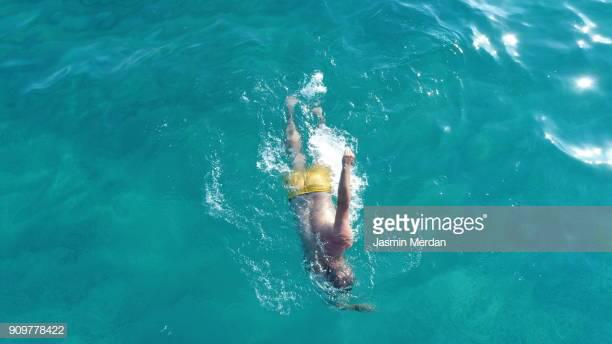swimmer: (276, 91, 374, 318)
